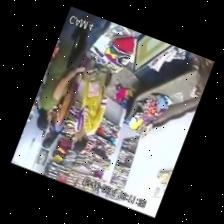person: (37, 21, 87, 129), (72, 68, 111, 152), (43, 73, 82, 147)
